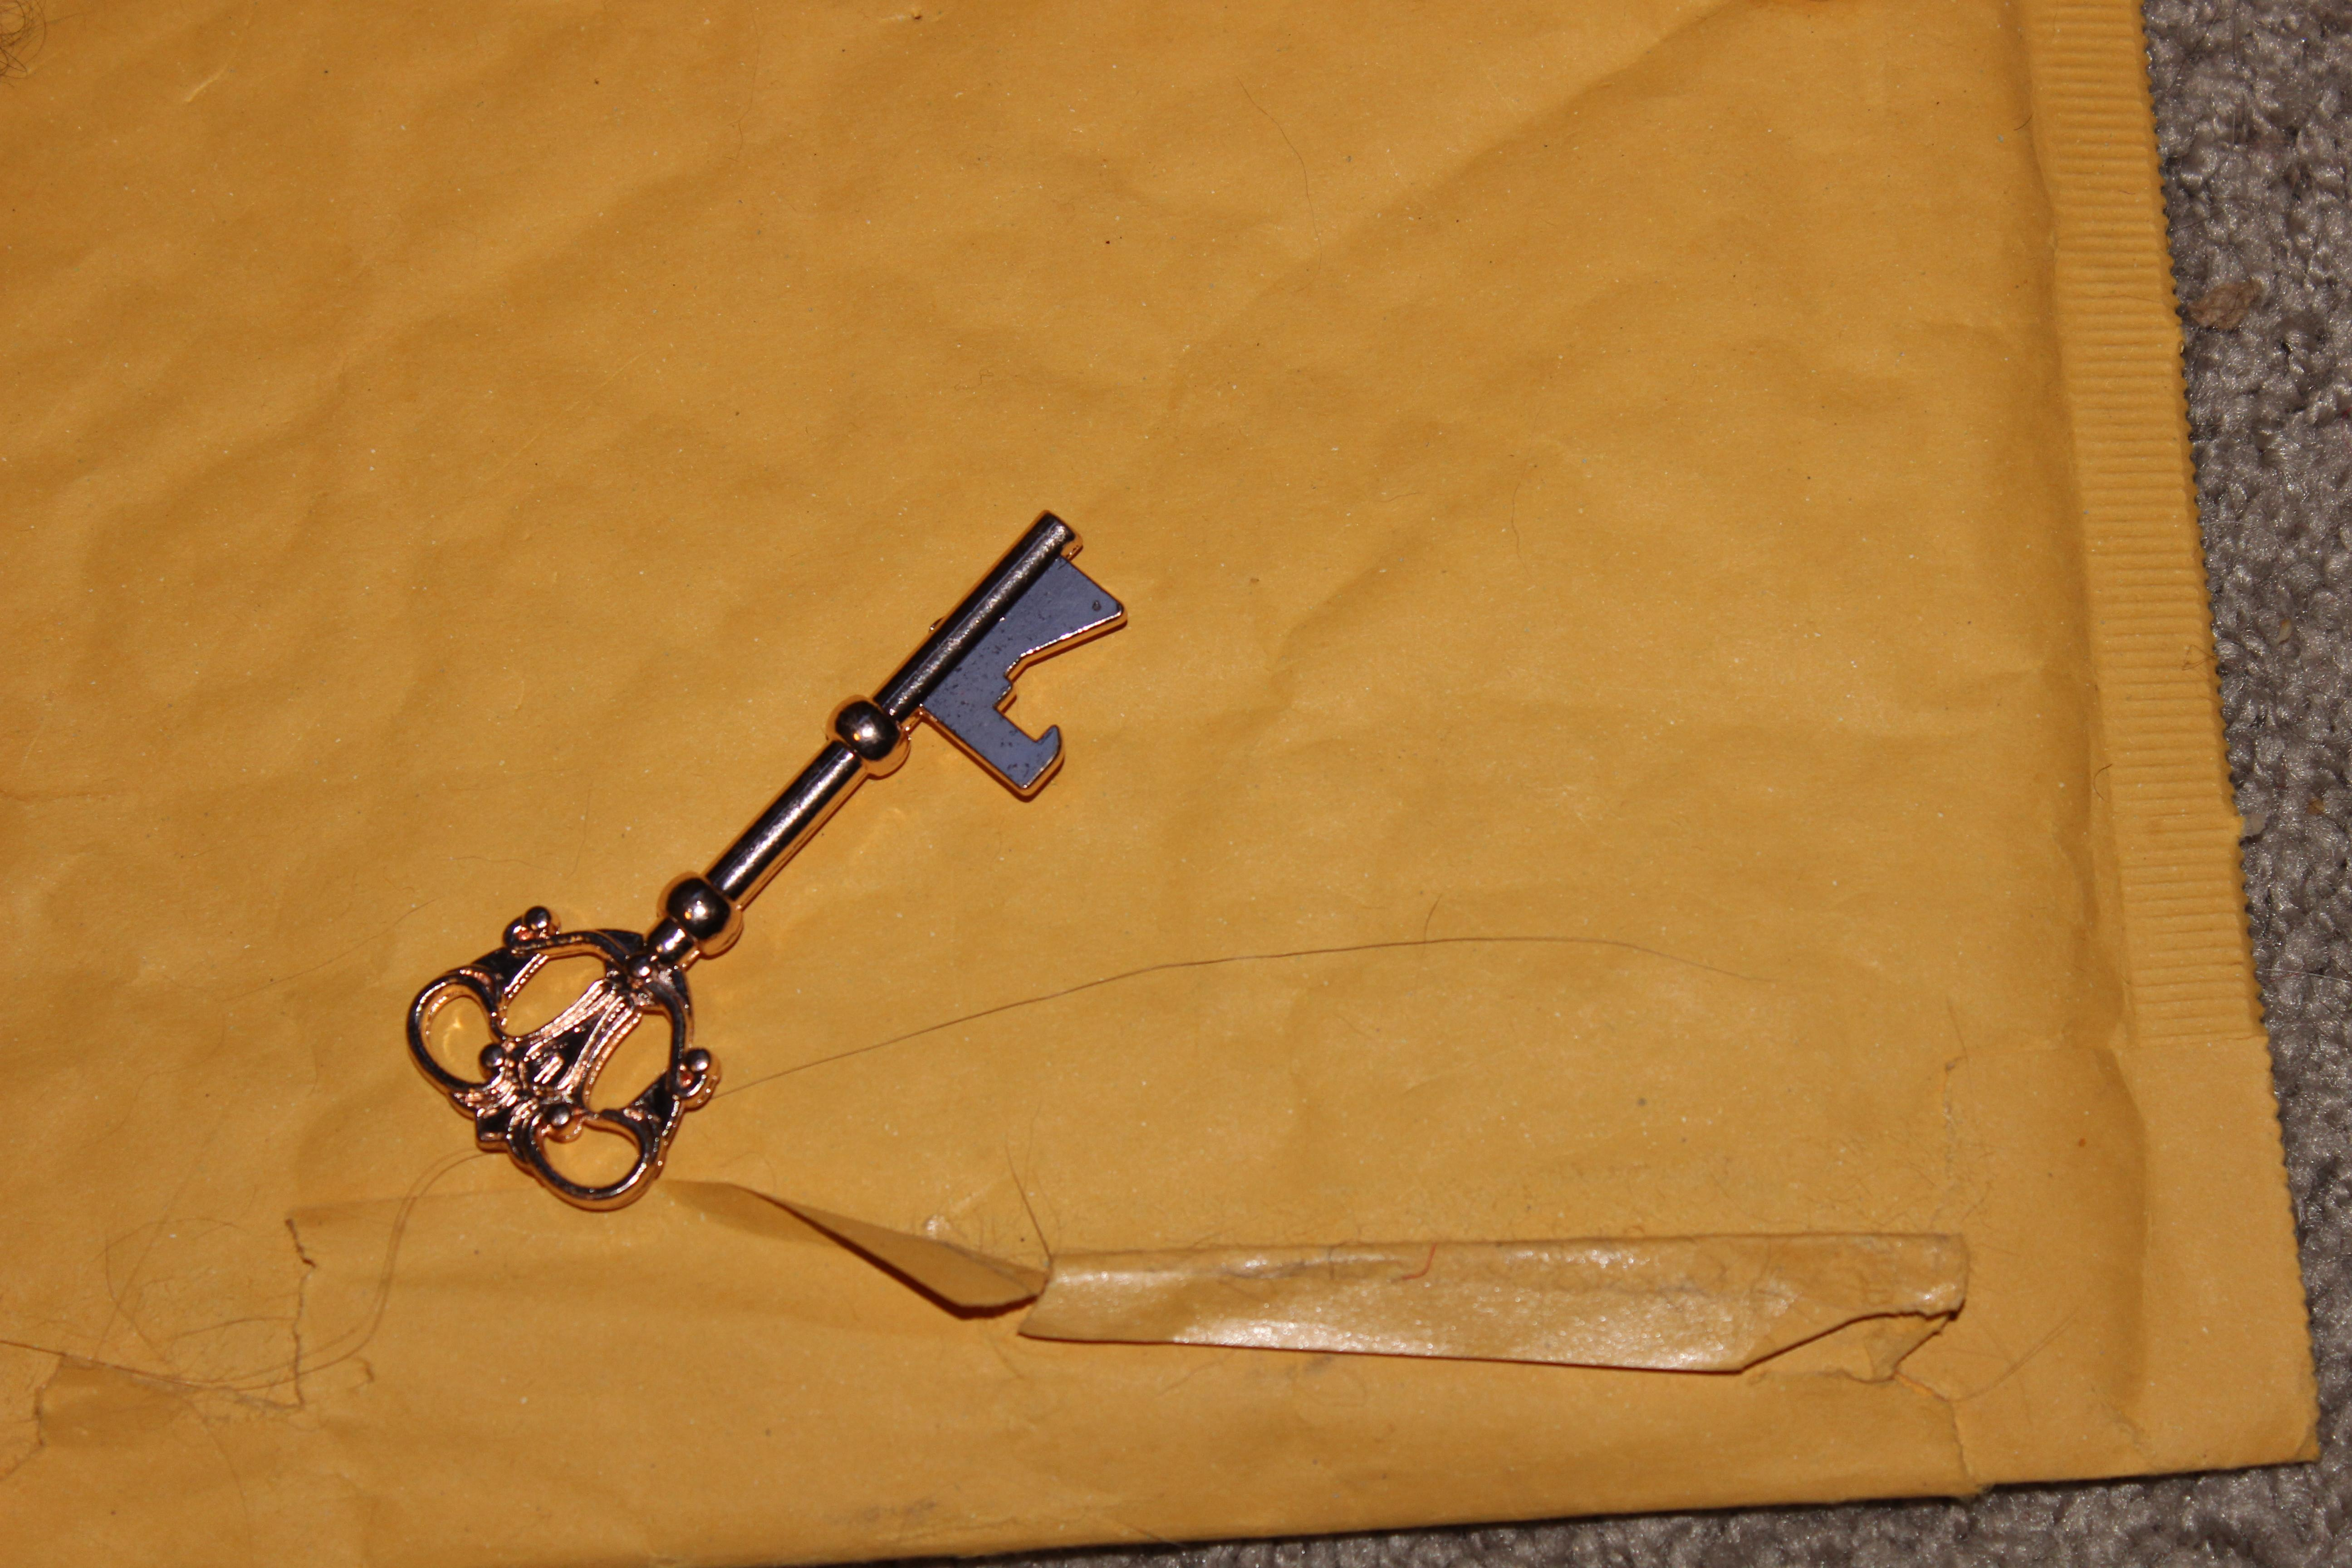metalKey: (367, 469, 1172, 1244)
